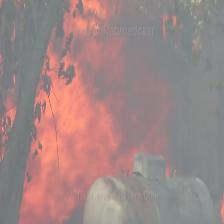fire: (0, 0, 176, 224)
